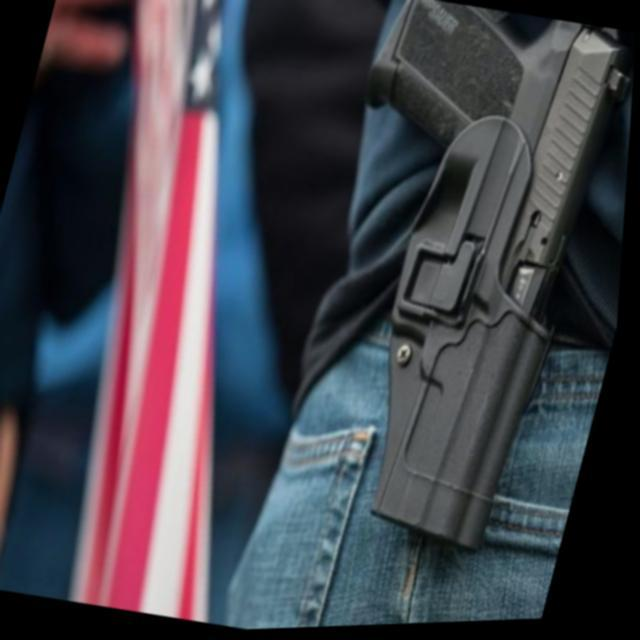weapon: (255, 0, 640, 573)
